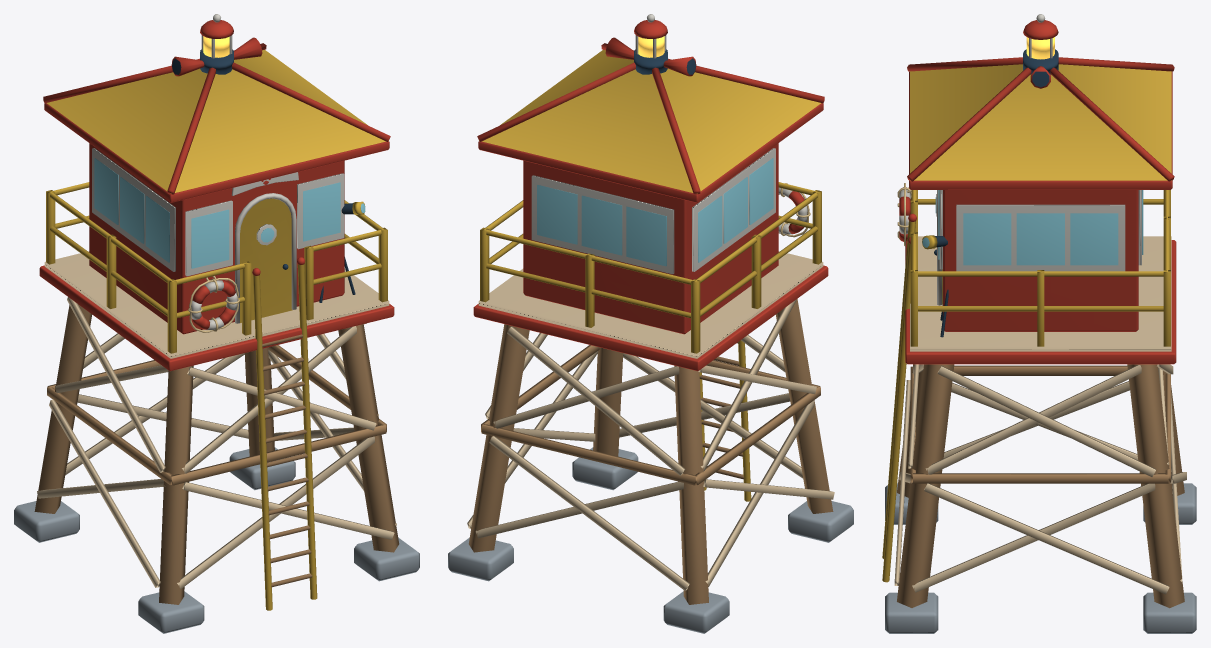
Rendered from lookout-tower-facade.glb.
3 renders of one model, left to right at view 1: azimuth 30°, elevation 25°; view 2: azimuth 150°, elevation 25°; view 3: azimuth 270°, elevation 25°, orthographic. The views are drawn at different scales.
Visible parts, largest first — view 1: lookout-tower-facade; view 2: lookout-tower-facade; view 3: lookout-tower-facade.
Boxes of the visible parts, x1,y1,x2,y2 form: lookout-tower-facade: (14, 14, 419, 633); lookout-tower-facade: (448, 14, 853, 633); lookout-tower-facade: (882, 14, 1196, 633).
Bounding box in the file's own units: 3.5 × 6.89 × 3.53.
